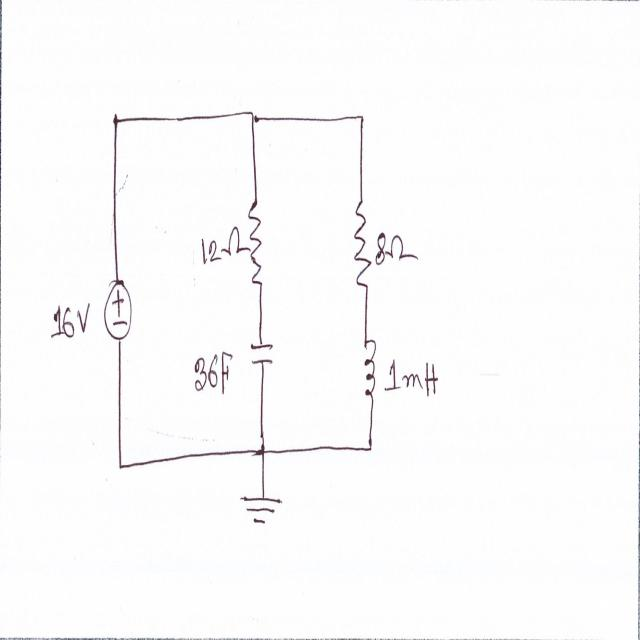capacitor: (249, 330, 278, 370)
ground: (237, 492, 288, 535)
inductor: (358, 334, 378, 414)
resistor: (247, 196, 270, 295), (353, 194, 372, 294)
voltage_source: (100, 276, 136, 341)
